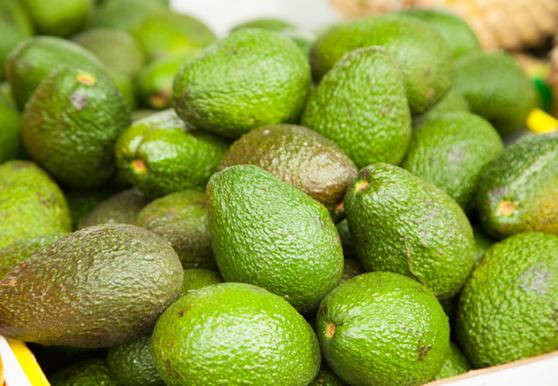avocado: (6, 225, 195, 354), (344, 156, 478, 296), (203, 165, 347, 293), (175, 277, 324, 386), (314, 268, 450, 384), (448, 223, 558, 360), (177, 28, 315, 129), (302, 56, 417, 163), (24, 66, 130, 181), (475, 126, 558, 234)
